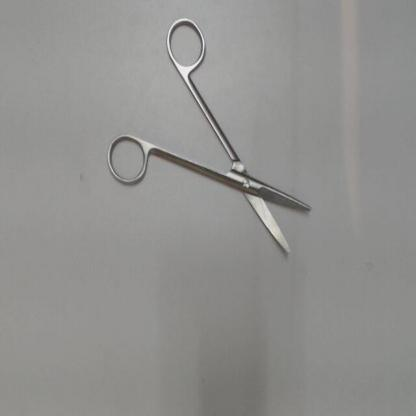Curved Mayo Scissors: (104, 12, 317, 264)
